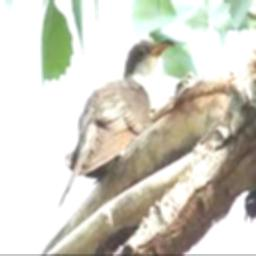Cuckoo: (57, 37, 174, 210)
